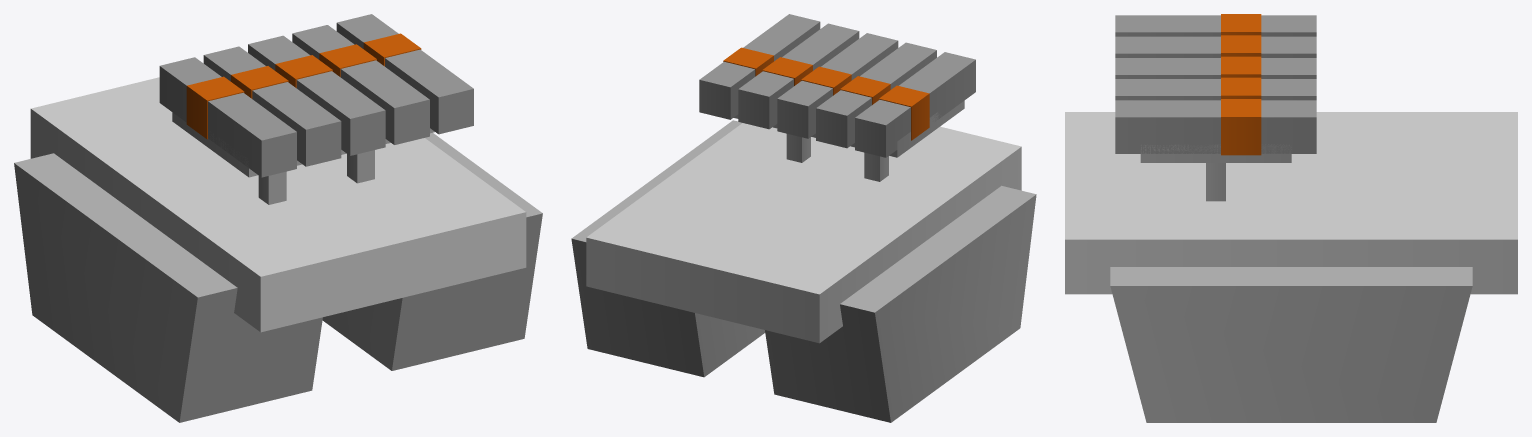
The model's file is tank-launcher.glb.
3 renders of one model, left to right at view 1: azimuth 30°, elevation 25°; view 2: azimuth 150°, elevation 25°; view 3: azimuth 270°, elevation 25°, orthographic. The views are drawn at different scales.
Visible parts, largest first — view 1: mesh0; view 2: mesh0; view 3: mesh0.
Boxes of the visible parts, bbox=[...] form: mesh0: bbox=[14, 14, 542, 422]; mesh0: bbox=[571, 14, 1036, 422]; mesh0: bbox=[1065, 14, 1517, 422].
Size of the model in its own units: 0.39 by 0.301 by 0.45.
